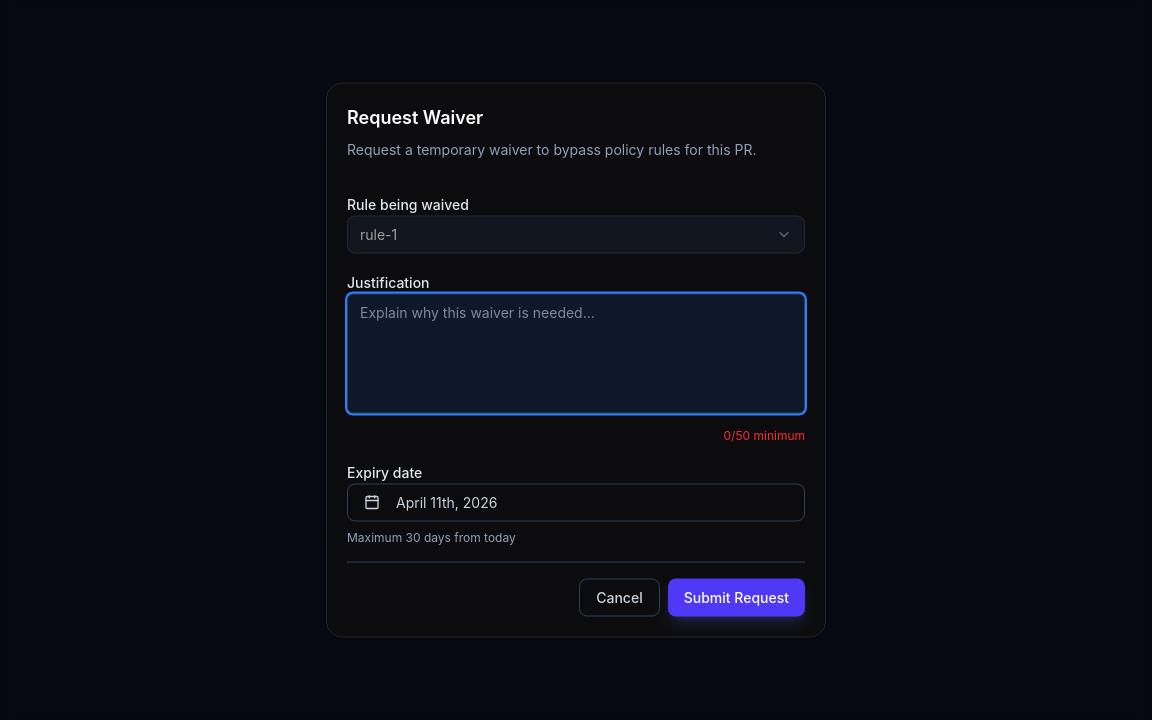
Scenario: WaiverModal › Form submission › shows loading state during submission
The width and height of the screenshot is (1152, 720).
Type "This is a valid justification that is longer than fifty characters to pass validation." into the text box with placeholder "Explain why this waiver is needed...".
click(576, 354); type("This is a valid justification that is longer than fifty characters to pass validation.")  # box 347,294 -> 805,414
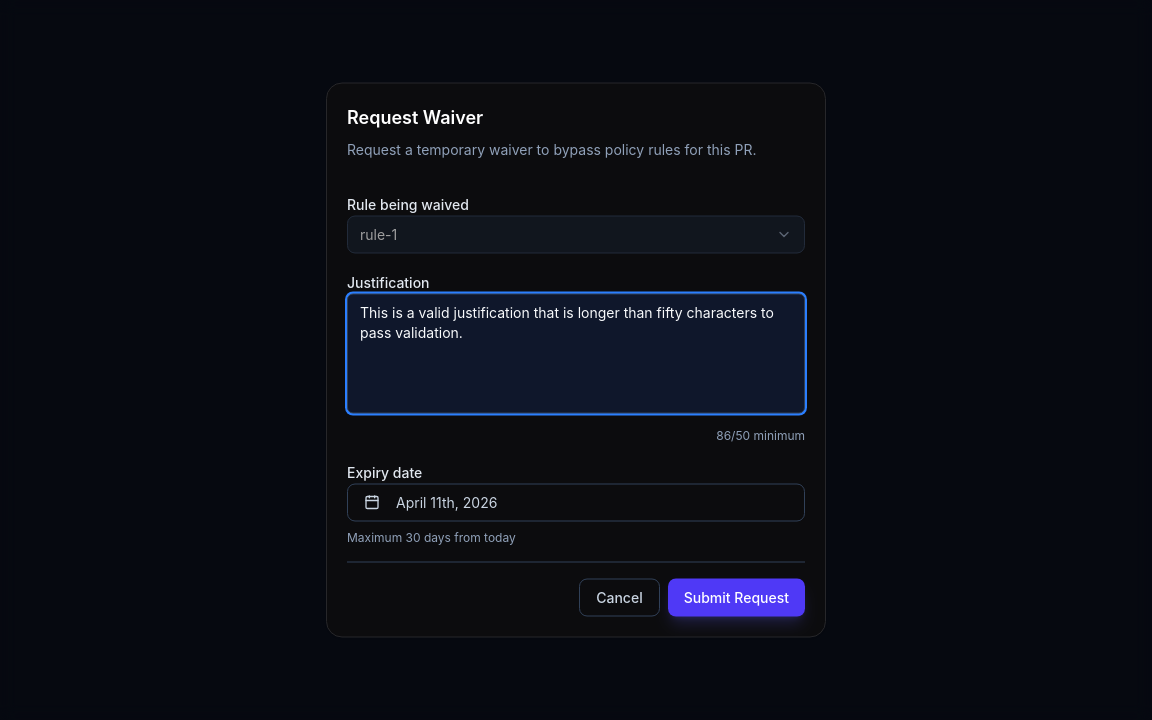
Click the button "Submit Request".
click(736, 598)  # box 668,578 -> 805,616
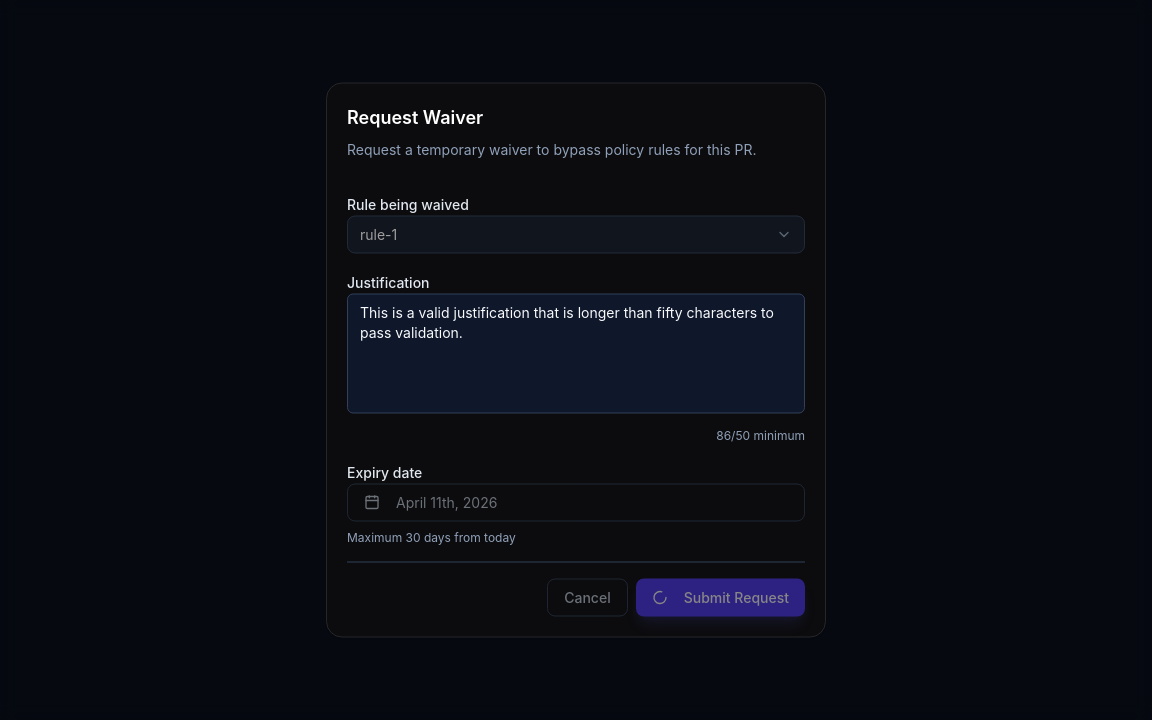
expect the button "Submit Request" is disabled: met, box 636,578 -> 805,616
expect the button "Cancel" is disabled: met, box 547,578 -> 628,616
